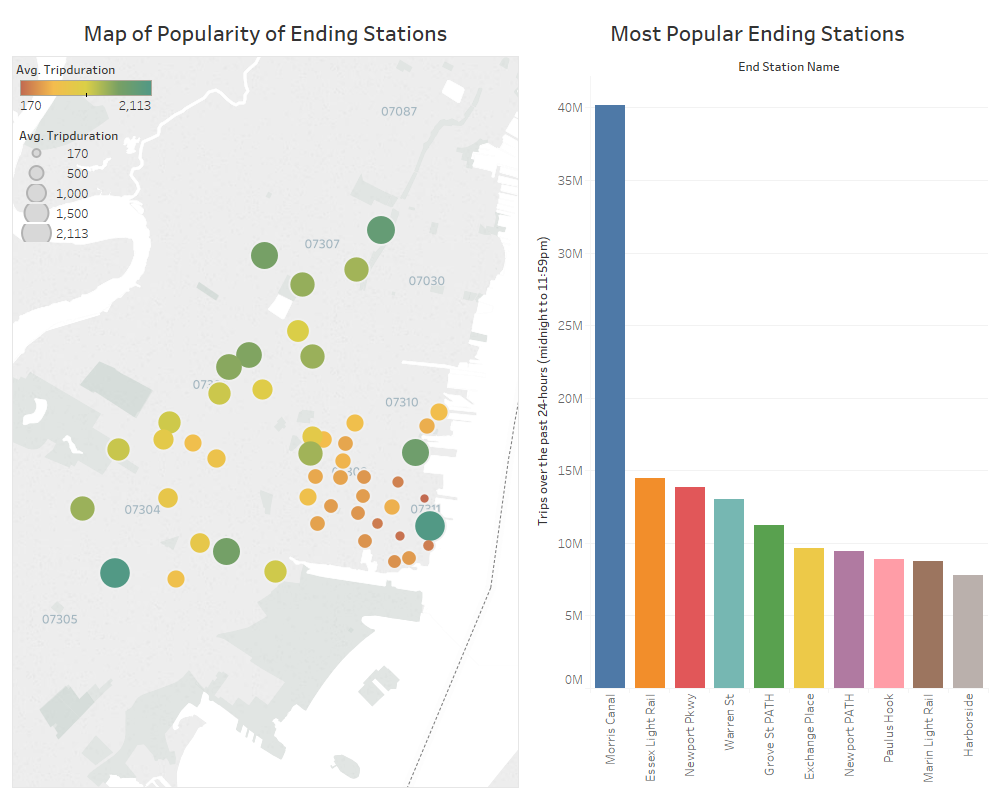

The dashboard page shown, as its layout file describes it:
{"tool":"tableau","page":{"name":"Station Information","canvas":[1000,800],"ordinal":2},"visuals":[{"type":"worksheet","title":"Map Stations","mark":"Automatic","rows":["end station latitude"],"cols":["end station longitude"],"box":[8,8,515,784]},{"type":"worksheet","title":"Popular Stations","mark":"Automatic","rows":["59pm)"],"cols":["end station name"],"box":[523,8,469,784]},{"type":"legend","title":"Map Stations","param":"[federated.0uc2wze0e0oavs0zziiqa0nlu8xf].[avg:tripduration:qk]","box":[16,57,140,76]},{"type":"legend","title":"Map Stations","param":"[federated.0uc2wze0e0oavs0zziiqa0nlu8xf].[avg:tripduration:qk]","box":[18,125,146,127]}]}

Visuals, with their boxes in screenshot pixels (x1, y1, x2, y2), scaled from the page's 1000x800 canvas onto the 1000x800 screenshot:
"Map Stations" worksheet: pyautogui.locateOnScreen(8, 8, 523, 792)
"Popular Stations" worksheet: pyautogui.locateOnScreen(523, 8, 992, 792)
"Map Stations" legend: pyautogui.locateOnScreen(16, 57, 156, 133)
"Map Stations" legend: pyautogui.locateOnScreen(18, 125, 164, 252)
